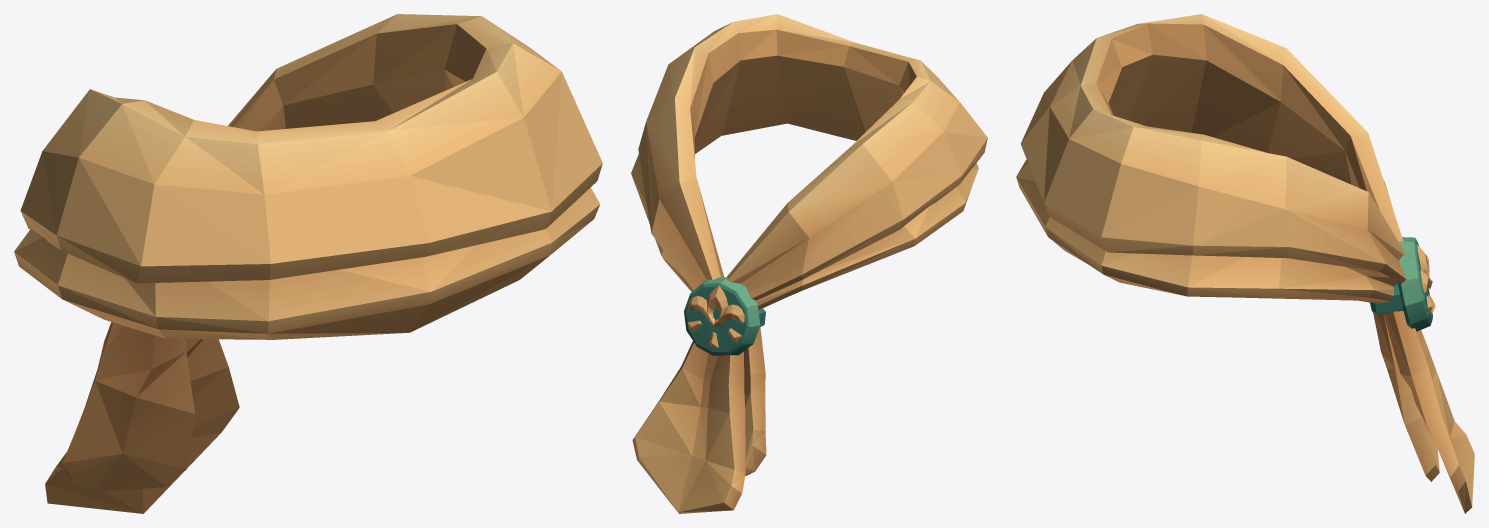
The model's file is CharSkyKid_Neck_AP10Pendant.glb.
The picture shows the model from 3 angles, left to right: view 1: azimuth 30°, elevation 25°; view 2: azimuth 150°, elevation 25°; view 3: azimuth 270°, elevation 25°; orthographic projection. The views are drawn at different scales.
Visible parts, largest first — view 1: CharSkyKid_Neck_AP10Pendant; view 2: CharSkyKid_Neck_AP10Pendant; view 3: CharSkyKid_Neck_AP10Pendant.
Boxes of the visible parts, <box> form: CharSkyKid_Neck_AP10Pendant: <box>14,14,602,513</box>; CharSkyKid_Neck_AP10Pendant: <box>631,14,987,513</box>; CharSkyKid_Neck_AP10Pendant: <box>1016,14,1474,513</box>.
Bounding box in the file's own units: 2.89 × 3.23 × 3.07.
Materials: 1 (1 with a texture image).
